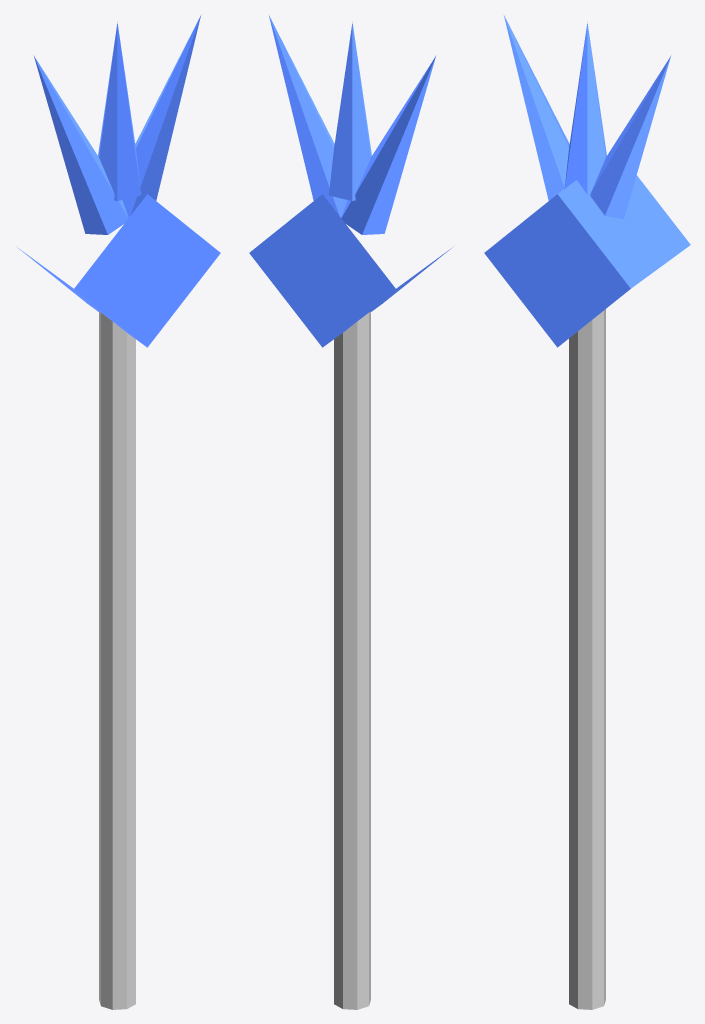
Rendered from zeus.glb.
3 views of the same model, side by side, from view 1: azimuth 30°, elevation 25°; view 2: azimuth 150°, elevation 25°; view 3: azimuth 330°, elevation 25° (orthographic).
Visible parts, largest first — view 1: zeus-shaft, zeus-head-gem, zeus-prong-r, zeus-prong-c, zeus-prong-l; view 2: zeus-shaft, zeus-head-gem, zeus-prong-r, zeus-prong-c, zeus-prong-l; view 3: zeus-shaft, zeus-head-gem, zeus-prong-l, zeus-prong-c, zeus-prong-r.
Boxes of the visible parts, box(x1,y1,x2,y2) form: zeus-shaft: box(99, 311, 135, 1009); zeus-head-gem: box(16, 194, 220, 347); zeus-prong-r: box(33, 55, 128, 234); zeus-prong-c: box(98, 22, 140, 200); zeus-prong-l: box(122, 15, 200, 217); zeus-shaft: box(334, 311, 370, 1009); zeus-head-gem: box(249, 194, 453, 347); zeus-prong-r: box(341, 55, 436, 234); zeus-prong-c: box(329, 22, 371, 200); zeus-prong-l: box(269, 15, 347, 217); zeus-shaft: box(569, 309, 605, 1009); zeus-head-gem: box(484, 175, 690, 347); zeus-prong-l: box(590, 55, 671, 218); zeus-prong-c: box(564, 22, 606, 195); zeus-prong-r: box(504, 15, 569, 200).
Size of the model in its own units: 0.3558 by 1.98 by 0.22.
